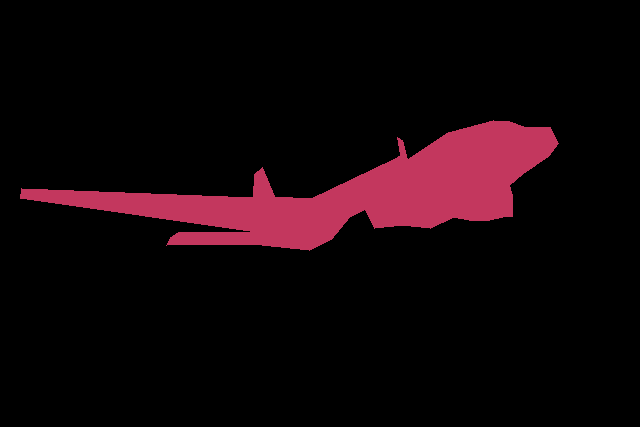Airplane: (20, 120, 559, 251)
